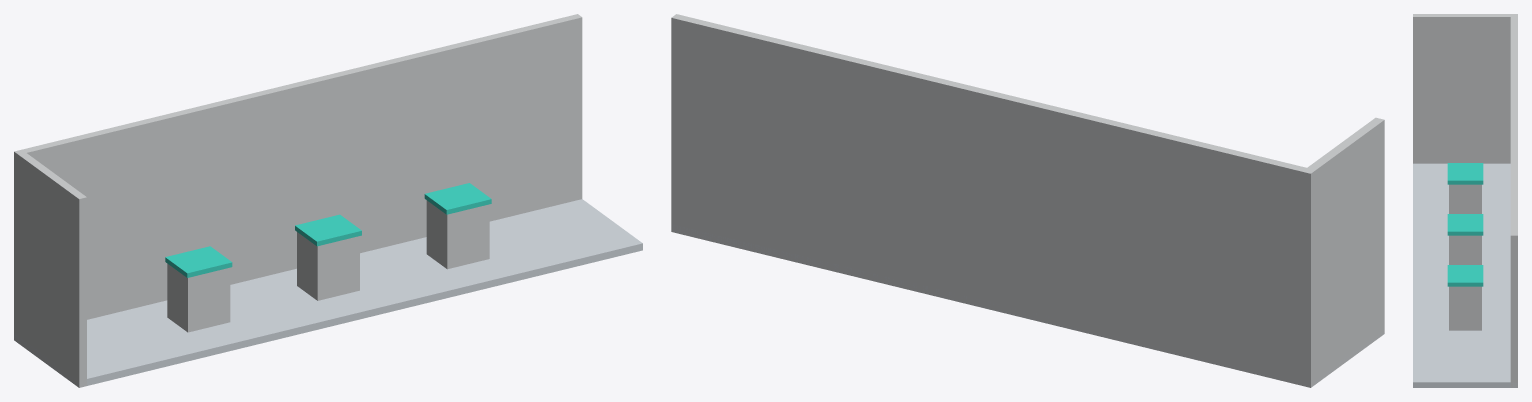
3 renders of one model, left to right at view 1: azimuth 30°, elevation 25°; view 2: azimuth 150°, elevation 25°; view 3: azimuth 270°, elevation 25°, orthographic. The views are drawn at different scales.
Parts seen in each view (by area): view 1: Exhibition Booth Concept; view 2: Exhibition Booth Concept; view 3: Exhibition Booth Concept.
Part boxes in pixels (x1=…): Exhibition Booth Concept: x1=14, y1=14, x2=642, y2=387; Exhibition Booth Concept: x1=671, y1=14, x2=1384, y2=387; Exhibition Booth Concept: x1=1413, y1=14, x2=1517, y2=387.
Size of the model in its own units: 10 by 3.2 by 2.
